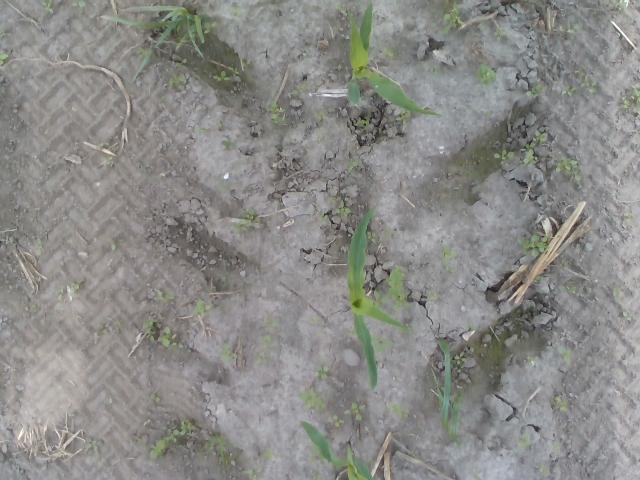Maize: (346, 0, 444, 122), (346, 208, 404, 394), (299, 419, 375, 480)
Weeds: (107, 5, 216, 84), (431, 334, 466, 450), (144, 416, 192, 466), (373, 265, 414, 311), (194, 430, 236, 472), (143, 319, 185, 353), (519, 129, 545, 168), (294, 382, 330, 410), (431, 241, 460, 274), (232, 208, 261, 240), (555, 156, 584, 186), (440, 0, 464, 34), (260, 102, 290, 129), (574, 64, 598, 96), (326, 192, 354, 219), (518, 232, 546, 256), (254, 334, 274, 364), (474, 63, 497, 89), (622, 81, 640, 113), (343, 400, 368, 422), (558, 16, 586, 34), (216, 344, 238, 366), (550, 393, 574, 413), (492, 141, 516, 161), (262, 312, 288, 330), (54, 280, 80, 298), (336, 2, 354, 28), (212, 64, 241, 80), (81, 438, 98, 464), (166, 69, 187, 90), (388, 402, 410, 422), (191, 296, 211, 318), (398, 107, 418, 127), (152, 288, 176, 304), (374, 334, 394, 353), (514, 432, 534, 450), (313, 365, 334, 382), (560, 346, 574, 370), (526, 80, 544, 98), (215, 272, 232, 291), (221, 136, 241, 152), (71, 0, 90, 16), (40, 0, 56, 17), (494, 27, 512, 42), (294, 78, 310, 94), (607, 0, 630, 11), (96, 318, 110, 336), (214, 176, 228, 194), (327, 416, 344, 430), (258, 447, 275, 461), (232, 4, 250, 17), (382, 228, 400, 240), (238, 468, 256, 480), (304, 314, 322, 326), (426, 286, 438, 304), (319, 210, 332, 226), (464, 322, 481, 334), (622, 210, 636, 224), (359, 114, 373, 128), (562, 84, 576, 98), (0, 50, 12, 66), (312, 110, 328, 122), (34, 239, 45, 256), (383, 46, 400, 57), (346, 159, 359, 173), (150, 391, 162, 406), (479, 342, 497, 352), (430, 64, 440, 80), (399, 316, 412, 328), (546, 439, 560, 450), (193, 126, 210, 135), (314, 128, 324, 143), (343, 327, 356, 338), (526, 354, 536, 368), (112, 238, 120, 255), (0, 25, 9, 40), (463, 344, 478, 353), (558, 258, 570, 269), (103, 156, 114, 168), (528, 276, 544, 284), (560, 286, 578, 293), (114, 320, 125, 331), (366, 229, 376, 241), (622, 312, 634, 322), (160, 95, 170, 106), (611, 287, 621, 298), (311, 471, 323, 480), (470, 158, 482, 167), (31, 303, 41, 313), (215, 118, 224, 129), (96, 142, 112, 148), (528, 302, 537, 312), (240, 59, 252, 66), (536, 464, 546, 472), (186, 343, 193, 354), (352, 142, 359, 153), (514, 317, 522, 326), (607, 217, 615, 225), (522, 10, 528, 16), (351, 346, 356, 352), (520, 0, 528, 3)
